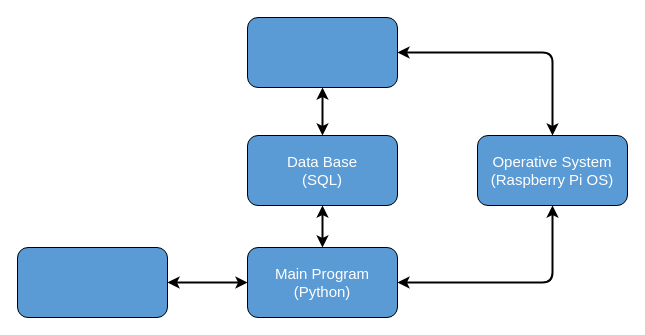
Some shapes in this 645 by 335 pixel diagram are drawn without their labels. The centre of each missing label's shape, as x and y in pixels:
"Hardware" belongs at pixel 92 282.
"Server (Node-Red)" belongs at pixel 322 52.
